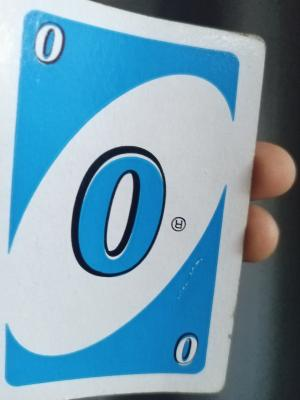blue: (14, 15, 212, 382)
num_0: (20, 15, 69, 65), (171, 326, 199, 373)
